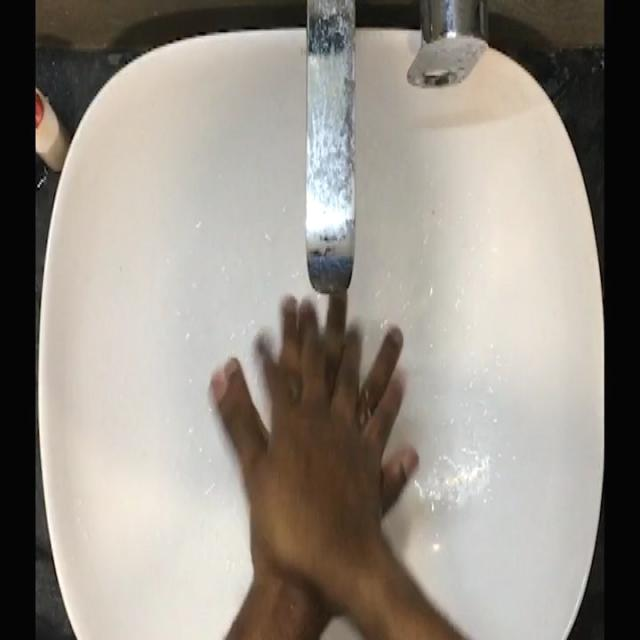step_2: (204, 258, 421, 575)
